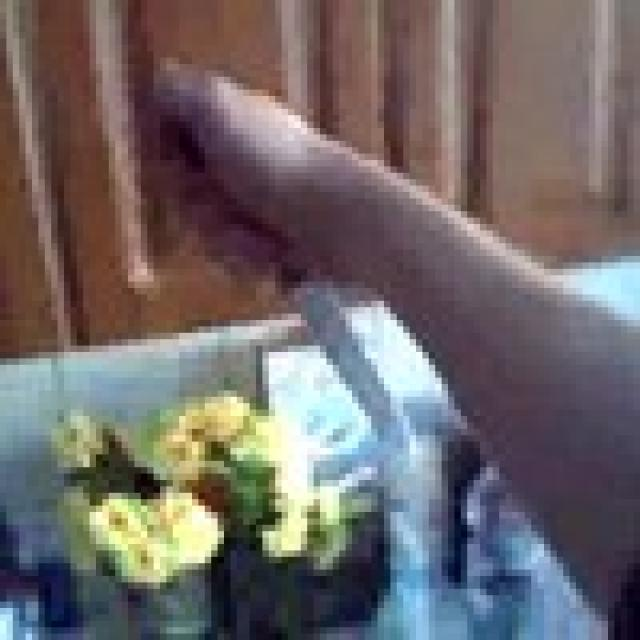Knife: (160, 115, 410, 461)
